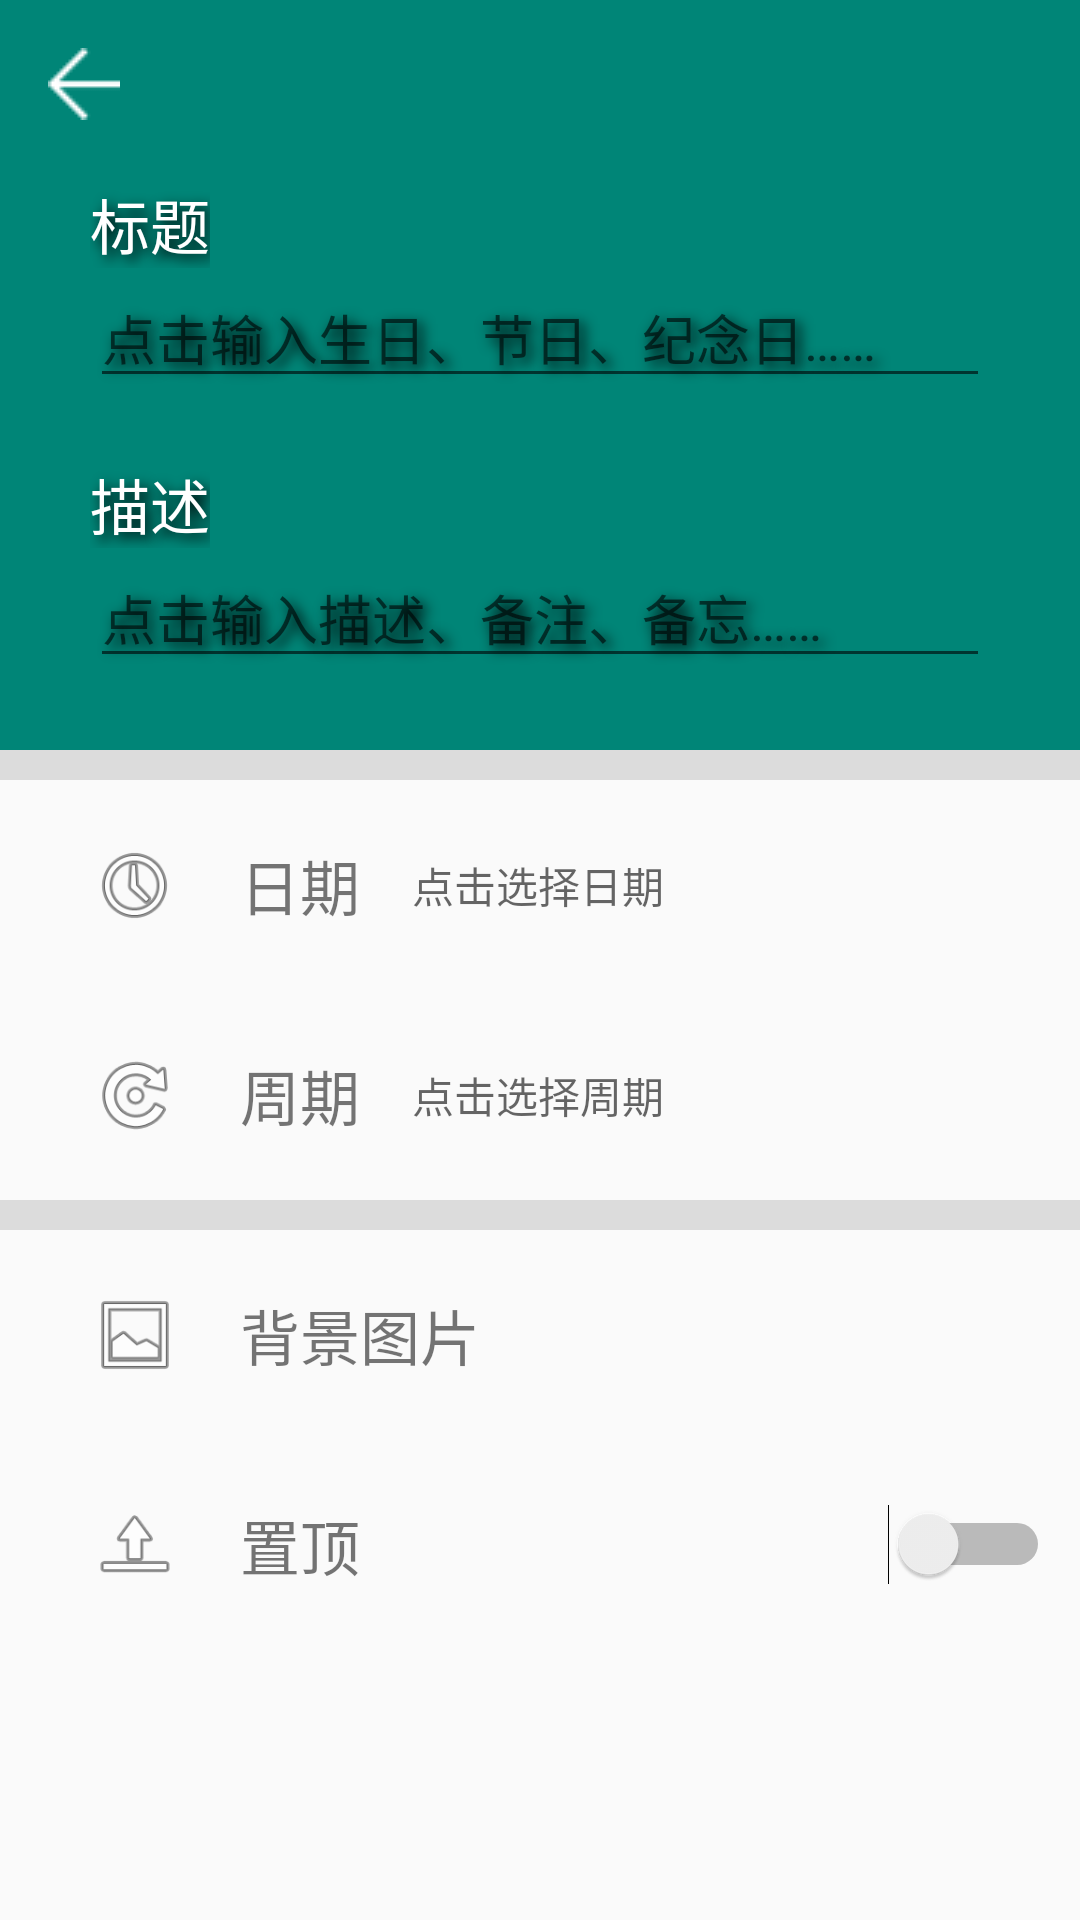

Icons on this 1080×1920 Android screen, each with the point to tap as (x=x, y=y):
gallery: (x=135, y=1335)
recent history: (x=134, y=885)
rotate: (x=135, y=1095)
upload: (x=135, y=1543)
